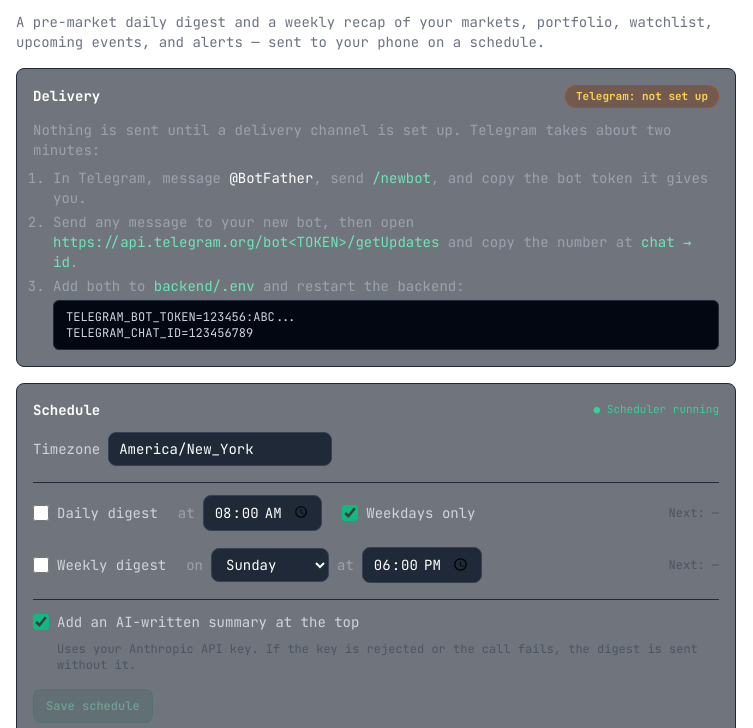
Test: DigestCenter › saves only after editing, sending the full draft, and shows the next run
Expected: the button "Save schedule" is disabled, [33, 688, 153, 722]
Click the checkbox labelled "Daily digest" at (41, 512), box [33, 504, 49, 520]
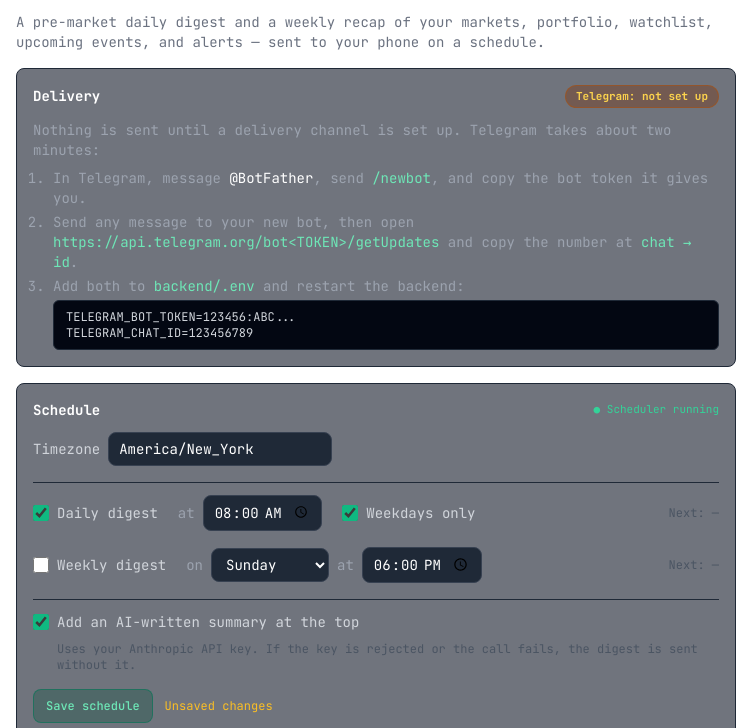
Replace the text in the time field named "Daily time" with "07:30" at (262, 512), box [203, 494, 322, 530]
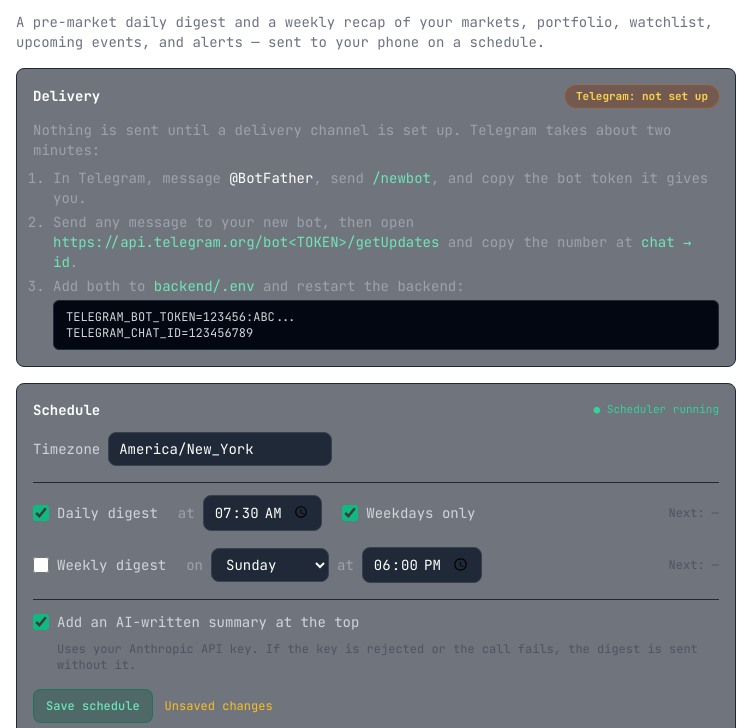
Expected: the text "Unsaved changes" is shown, [165, 698, 273, 714]
Click the button "Save schedule" at (93, 706), box [33, 688, 153, 722]
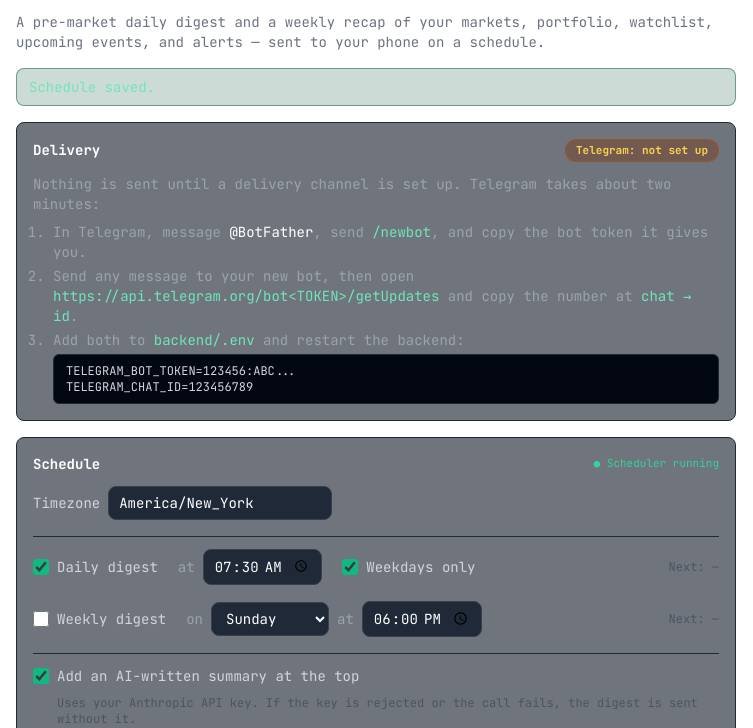
Expected: the text "Schedule saved." is shown, [16, 68, 736, 106]
Expected: the text "Unsaved changes" is gone
